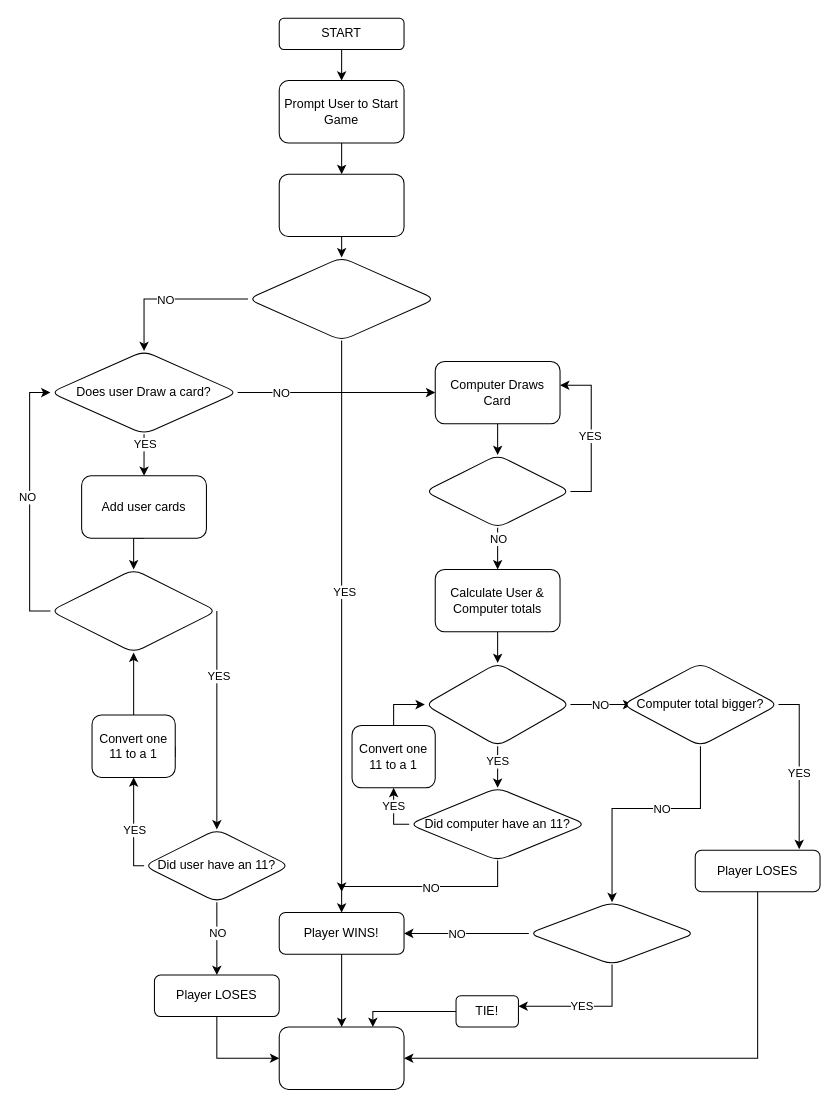
Image size: 838x1108. Some labels were removed from this diagram. Here are the shapes that lost their labels. From the top down, the centre of each, then its label:
the point at 341,205: User gets two cards. Computer gets one
the point at 341,298: Did user get a 21?
the point at 497,491: Computer under 17?
the point at 133,610: Did user go over 21
the point at 497,704: Computer go over 21?
the point at 611,933: Totals Equal?
the point at 341,1057: GAME OVER
